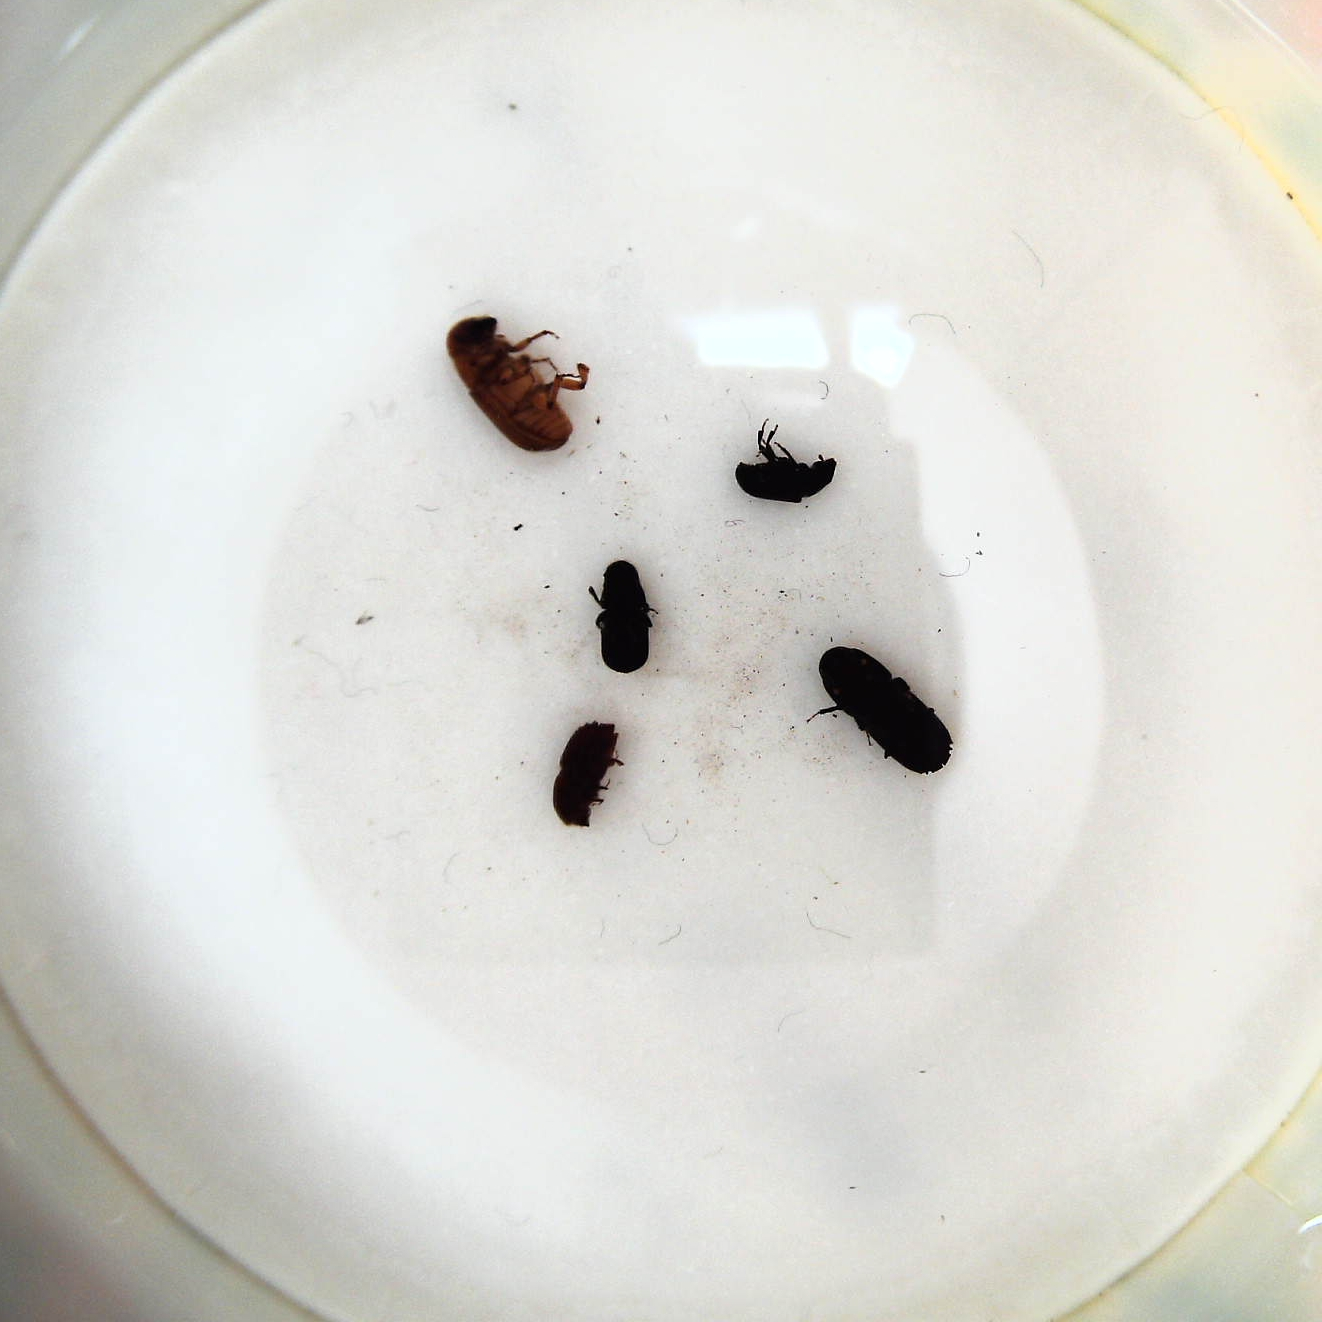Boerner: (810, 642, 954, 783)
Leconte: (442, 312, 598, 459)
armandi: (586, 559, 663, 678)
coleoptera: (732, 420, 849, 510)
linnaeus: (552, 720, 632, 830)
